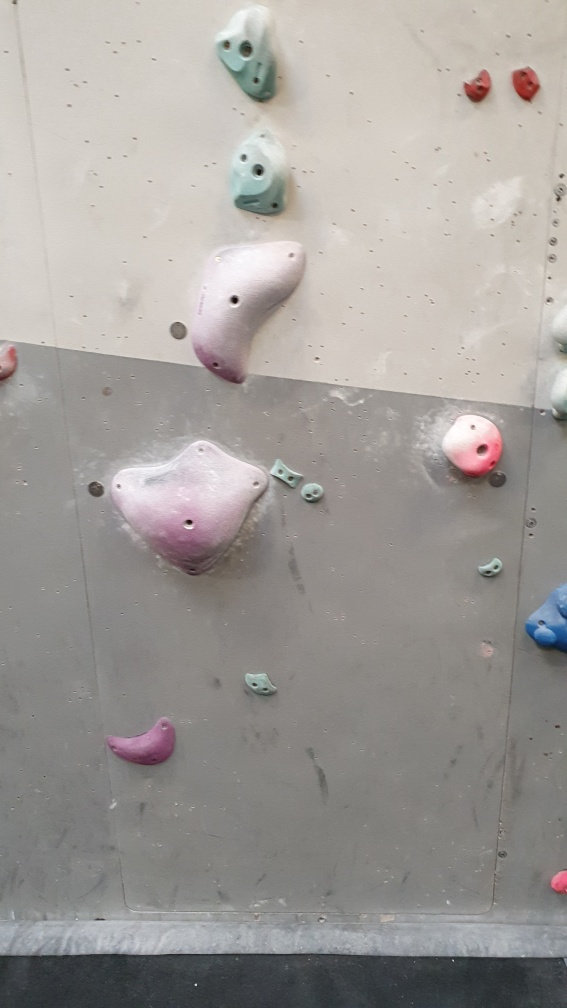Hand Start: (162, 312, 190, 345), (484, 467, 514, 493), (81, 475, 105, 503)
Jug: (213, 1, 291, 105), (225, 117, 295, 219)
Pinch: (264, 457, 304, 489)
Sloper: (520, 574, 567, 655)
